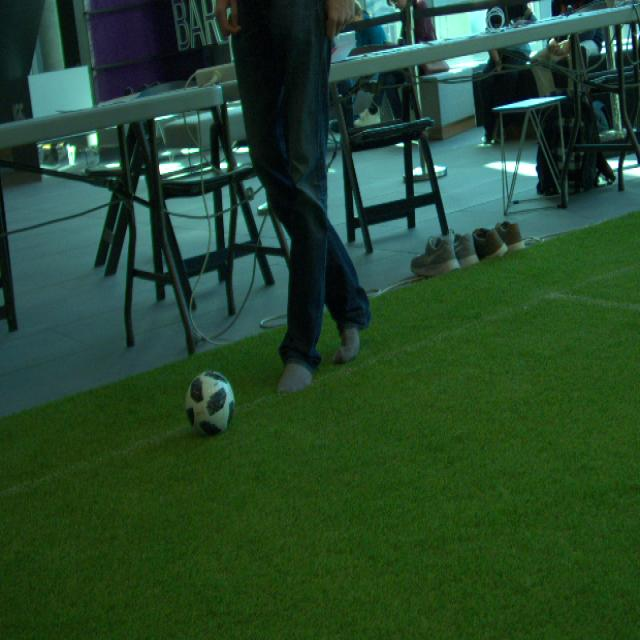ball: (186, 371, 236, 436)
